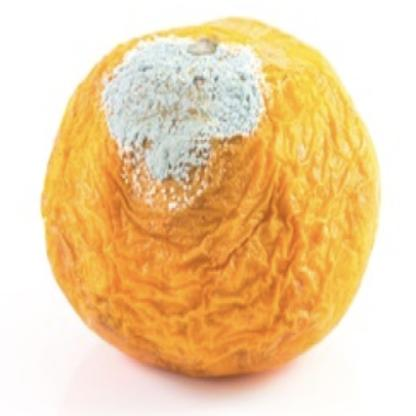rotten: (43, 16, 380, 379)
